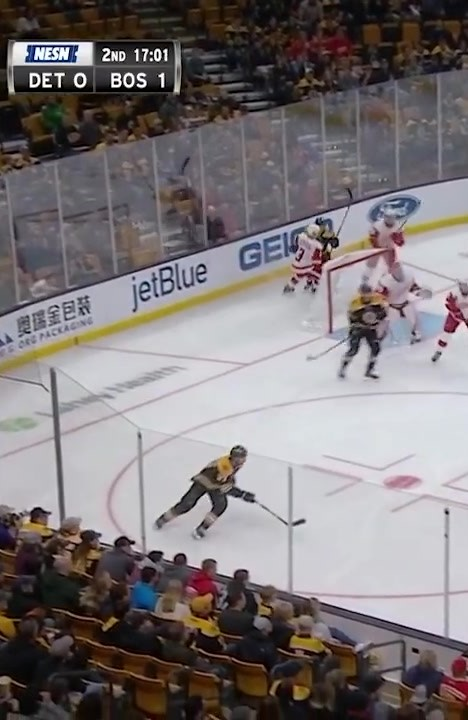Geico: (234, 222, 310, 275)
